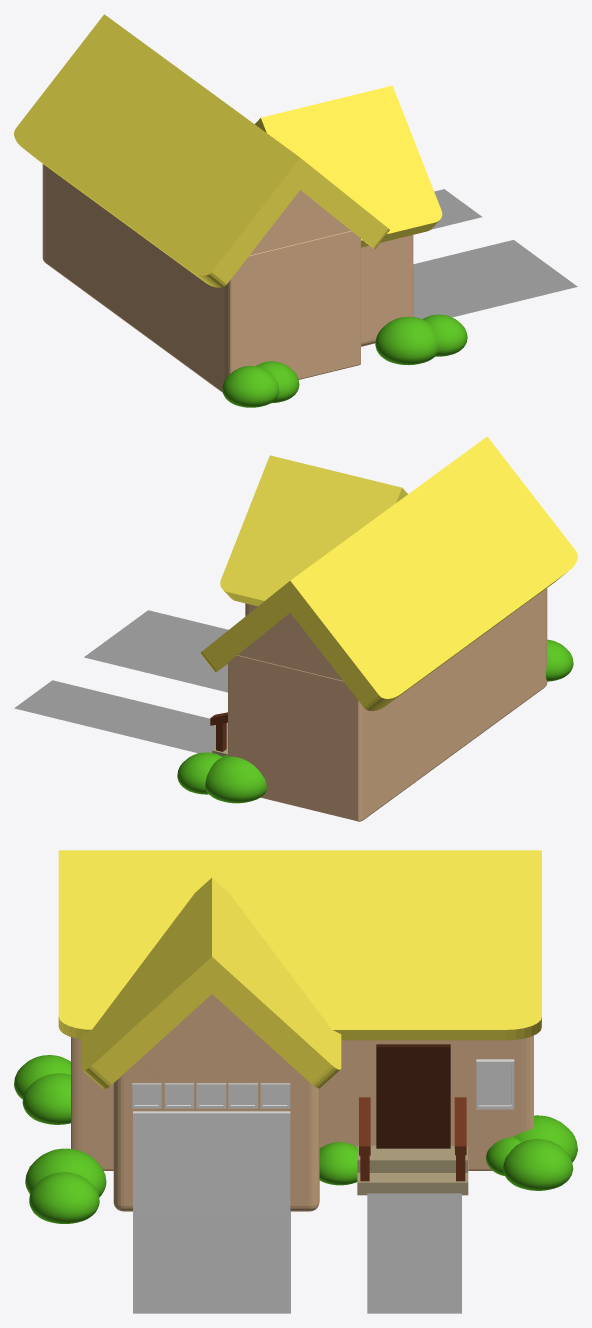
Rendered from yellow house.fbx.
3 views of the same model, one above another, from view 1: azimuth 30°, elevation 25°; view 2: azimuth 150°, elevation 25°; view 3: azimuth 270°, elevation 25° (orthographic). The views are drawn at different scales.
Visible parts, largest first — view 1: Cube.009, Cube.010, Cube.011, Plane.018, Cube.008, Sphere.008, Sphere.015, Sphere.009, Plane.017, Sphere.014; view 2: Cube.009, Cube.010, Cube.011, Plane.017, Plane.018, Sphere.010, Sphere.011, Sphere.015; view 3: Cube.009, Cube.011, Cube.016, Cube.008, Plane.018, Cube.010, Plane.017, Cube.019, Sphere.009, Sphere.011, Cube.018, Cube.017 (+10 smaller).
Boxes of the visible parts, <box> form: Cube.009: <box>14,14,389,287</box>; Cube.010: <box>42,164,360,392</box>; Cube.011: <box>255,85,442,247</box>; Plane.018: <box>413,240,577,319</box>; Cube.008: <box>361,235,413,346</box>; Sphere.008: <box>375,316,438,365</box>; Sphere.015: <box>222,366,279,407</box>; Sphere.009: <box>422,314,467,356</box>; Plane.017: <box>431,189,482,229</box>; Sphere.014: <box>256,361,299,403</box>; Cube.009: <box>200,436,577,710</box>; Cube.010: <box>228,588,547,821</box>; Cube.011: <box>220,455,407,606</box>; Plane.017: <box>14,680,227,753</box>; Plane.018: <box>84,610,228,692</box>; Sphere.010: <box>205,756,266,803</box>; Sphere.011: <box>177,752,222,794</box>; Sphere.015: <box>545,639,573,681</box>; Cube.009: <box>58,850,541,1040</box>; Cube.011: <box>82,877,341,1088</box>; Cube.016: <box>133,1111,290,1213</box>; Cube.008: <box>113,994,319,1211</box>; Plane.018: <box>133,1210,290,1313</box>; Cube.010: <box>71,1035,533,1170</box>; Plane.017: <box>367,1193,461,1313</box>; Cube.019: <box>376,1044,450,1148</box>; Sphere.009: <box>29,1172,99,1223</box>; Sphere.011: <box>503,1139,573,1190</box>; Cube.018: <box>357,1145,467,1172</box>; Cube.017: <box>357,1158,468,1195</box>.
Bounding box in the file's own units: 1215 × 669 × 1195.
